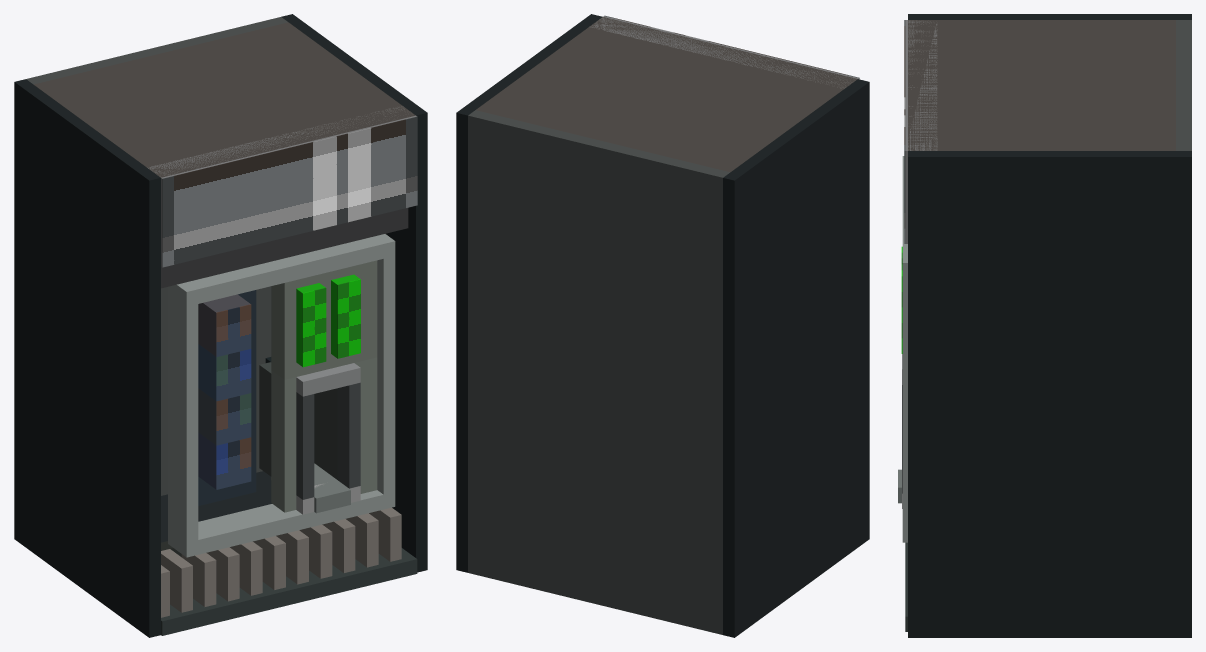
File: CMU3DVendorBoozeCloud.glb
3 views of the same model, side by side, from view 1: azimuth 30°, elevation 25°; view 2: azimuth 150°, elevation 25°; view 3: azimuth 270°, elevation 25° (orthographic). The views are drawn at different scales.
Visible parts, largest first — view 1: left full-depth cabinet wall, roof, striped silver header original face, right full-depth cabinet wall, silver front door frame left, selection bank grey backing, base bottom trim, silver front door frame top, black upper reveal, silver front door frame bottom, solid rear wall, silver front door frame right (+33 smaller); view 2: solid rear wall, left full-depth cabinet wall, roof, right full-depth cabinet wall, striped silver header; view 3: right full-depth cabinet wall, roof, striped silver header, solid rear wall, left full-depth cabinet wall, silver front door frame right, silver front door frame top, striped silver header original face.
Part boxes in pixels (x1,y1,x2,y2): left full-depth cabinet wall: (14, 79, 160, 637); roof: (34, 22, 415, 177); striped silver header original face: (162, 116, 417, 267); right full-depth cabinet wall: (281, 14, 427, 572); silver front door frame left: (168, 293, 198, 542); selection bank grey backing: (271, 260, 377, 379); base bottom trim: (161, 548, 417, 635); silver front door frame top: (168, 234, 395, 306); black upper reveal: (161, 208, 408, 288); silver front door frame bottom: (168, 490, 395, 557); solid rear wall: (26, 17, 287, 495); silver front door frame right: (377, 256, 395, 494); solid rear wall: (468, 110, 729, 634); left full-depth cabinet wall: (723, 79, 869, 637); roof: (476, 17, 857, 172); right full-depth cabinet wall: (456, 14, 602, 572); striped silver header: (589, 16, 859, 88); right full-depth cabinet wall: (908, 151, 1191, 637); roof: (908, 20, 1175, 150); striped silver header: (905, 20, 937, 243); solid rear wall: (1176, 20, 1191, 150); left full-depth cabinet wall: (908, 14, 1191, 19); silver front door frame right: (902, 278, 907, 526); silver front door frame top: (902, 156, 907, 278); striped silver header original face: (904, 20, 905, 243).
Size of the model in its own units: 0.75 by 1.18 by 0.652.
Materials: 31 (7 with a texture image).
